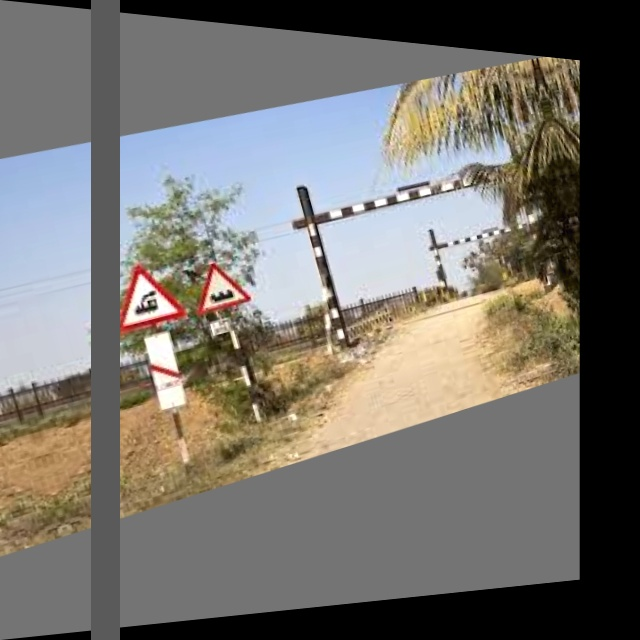Unguarded_Level_Crossing: (101, 247, 188, 340)
